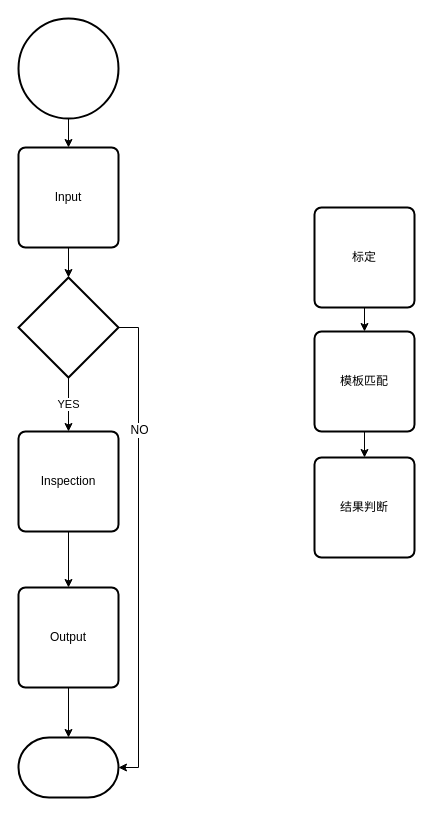
Image size: 432x815. Some labels were removed from this diagram. Here are the shapes that lost their labels. From the top down, the centre of each, then its label:
(x=68, y=68): Start
(x=68, y=327): tirg=ok
(x=68, y=767): End
